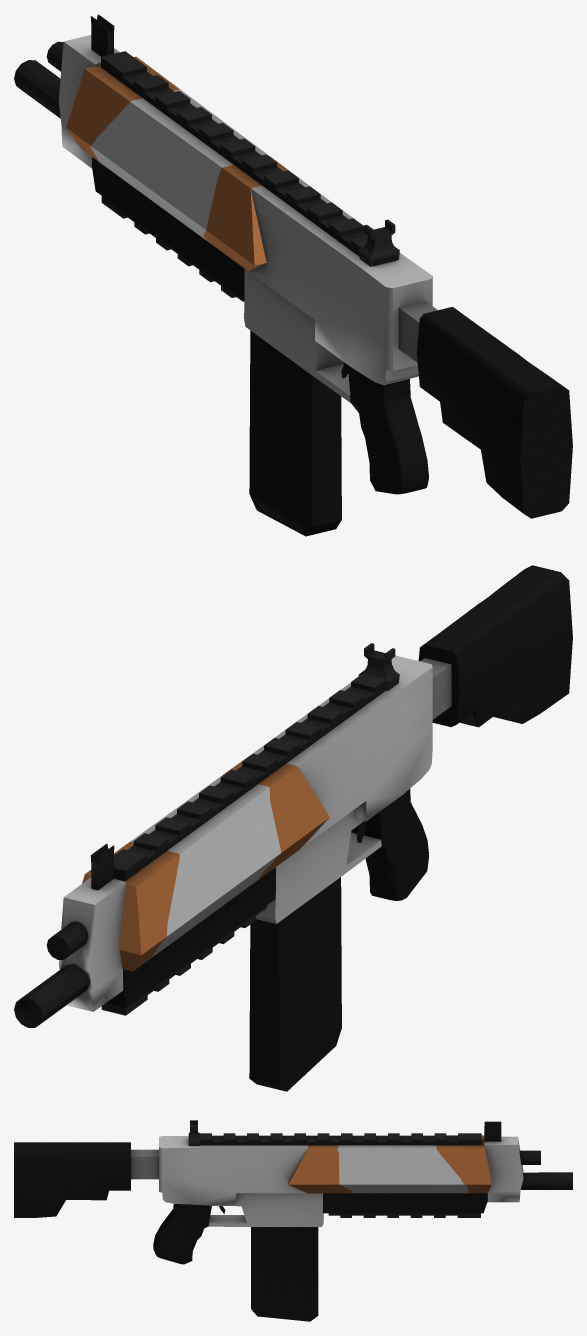
File: Shotgun.fbx
The picture shows the model from 3 angles, top to bottom: view 1: azimuth 30°, elevation 25°; view 2: azimuth 150°, elevation 25°; view 3: azimuth 270°, elevation 25°; orthographic projection. The views are drawn at different scales.
Visible parts, largest first — view 1: Shotgun_Body, Shotgun_Magazine, Shotgun_Sight; view 2: Shotgun_Body, Shotgun_Magazine, Shotgun_Sight; view 3: Shotgun_Body, Shotgun_Magazine, Shotgun_Sight.
Part boxes in pixels (x1,y1,x2,y2): Shotgun_Body: (14, 14, 572, 518); Shotgun_Magazine: (249, 330, 341, 536); Shotgun_Sight: (359, 219, 399, 266); Shotgun_Body: (14, 565, 572, 1027); Shotgun_Magazine: (249, 877, 341, 1091); Shotgun_Sight: (358, 643, 399, 690); Shotgun_Body: (14, 1121, 572, 1264); Shotgun_Magazine: (251, 1227, 318, 1321); Shotgun_Sight: (188, 1120, 200, 1145).
Size of the model in its own units: 0.7721 by 3.54 by 9.19.
